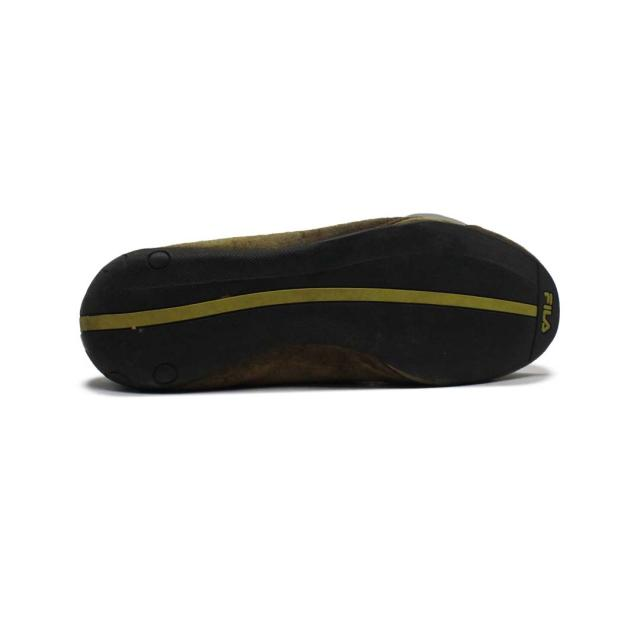outersole: (81, 210, 564, 389)
